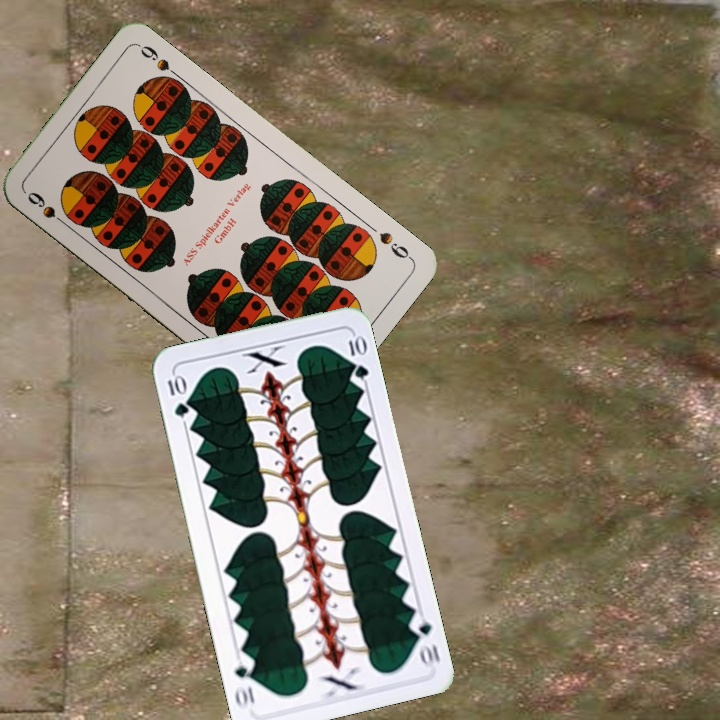G10: (406, 609, 443, 668), (163, 370, 192, 420)
S9: (23, 187, 72, 230), (375, 228, 415, 263)
